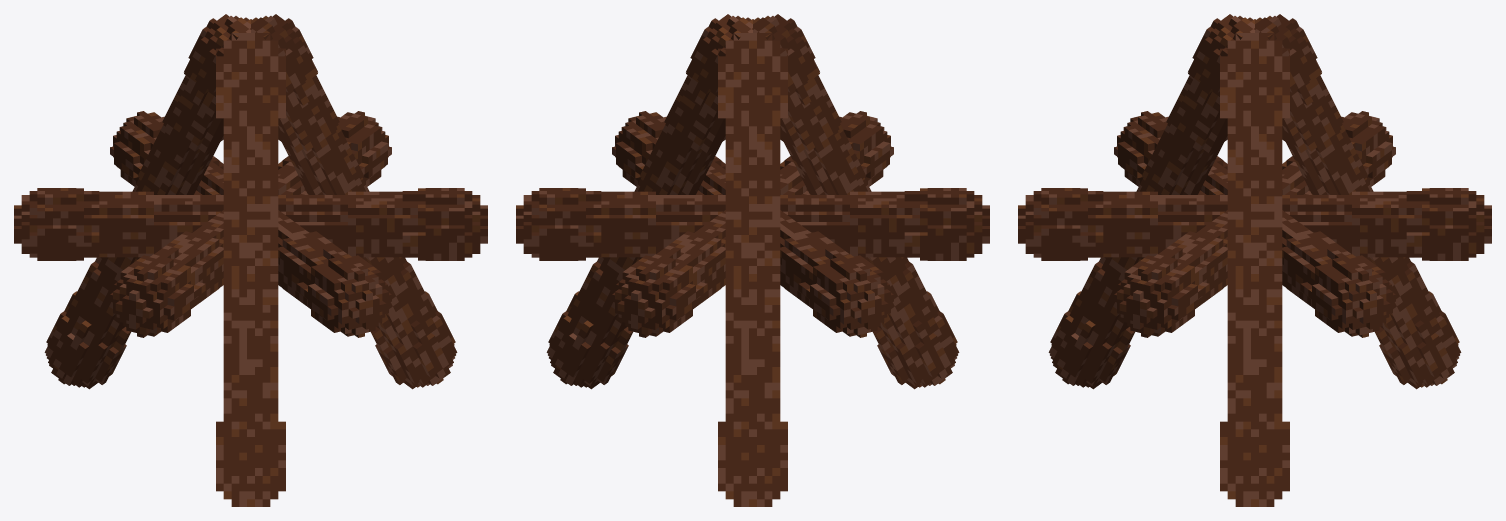
Rendered from bonfire.fbx.
The picture shows the model from 3 angles, left to right: view 1: azimuth 30°, elevation 25°; view 2: azimuth 150°, elevation 25°; view 3: azimuth 270°, elevation 25°; orthographic projection.
Visible parts, largest first — view 1: Cube.017, Cube.012, Cube.015, Cube.016, Cube.013, Cube.011; view 2: Cube.016, Cube.011, Cube.015, Cube.017, Cube.013, Cube.012; view 3: Cube.015, Cube.013, Cube.016, Cube.017, Cube.011, Cube.012.
Part boxes in pixels (<box>): Cube.017: <box>216,33,285,506</box>; Cube.012: <box>14,188,487,260</box>; Cube.015: <box>251,14,457,389</box>; Cube.016: <box>44,14,250,389</box>; Cube.013: <box>110,111,391,337</box>; Cube.011: <box>110,111,391,337</box>; Cube.016: <box>718,33,787,506</box>; Cube.011: <box>516,188,989,260</box>; Cube.015: <box>546,14,752,389</box>; Cube.017: <box>753,14,959,389</box>; Cube.013: <box>612,111,893,337</box>; Cube.012: <box>612,111,893,337</box>; Cube.015: <box>1220,33,1289,506</box>; Cube.013: <box>1018,188,1491,260</box>; Cube.016: <box>1255,14,1461,389</box>; Cube.017: <box>1048,14,1254,389</box>; Cube.011: <box>1114,111,1395,337</box>; Cube.012: <box>1114,111,1395,337</box>.
Bounding box in the file's own units: 166 × 166 × 176.
